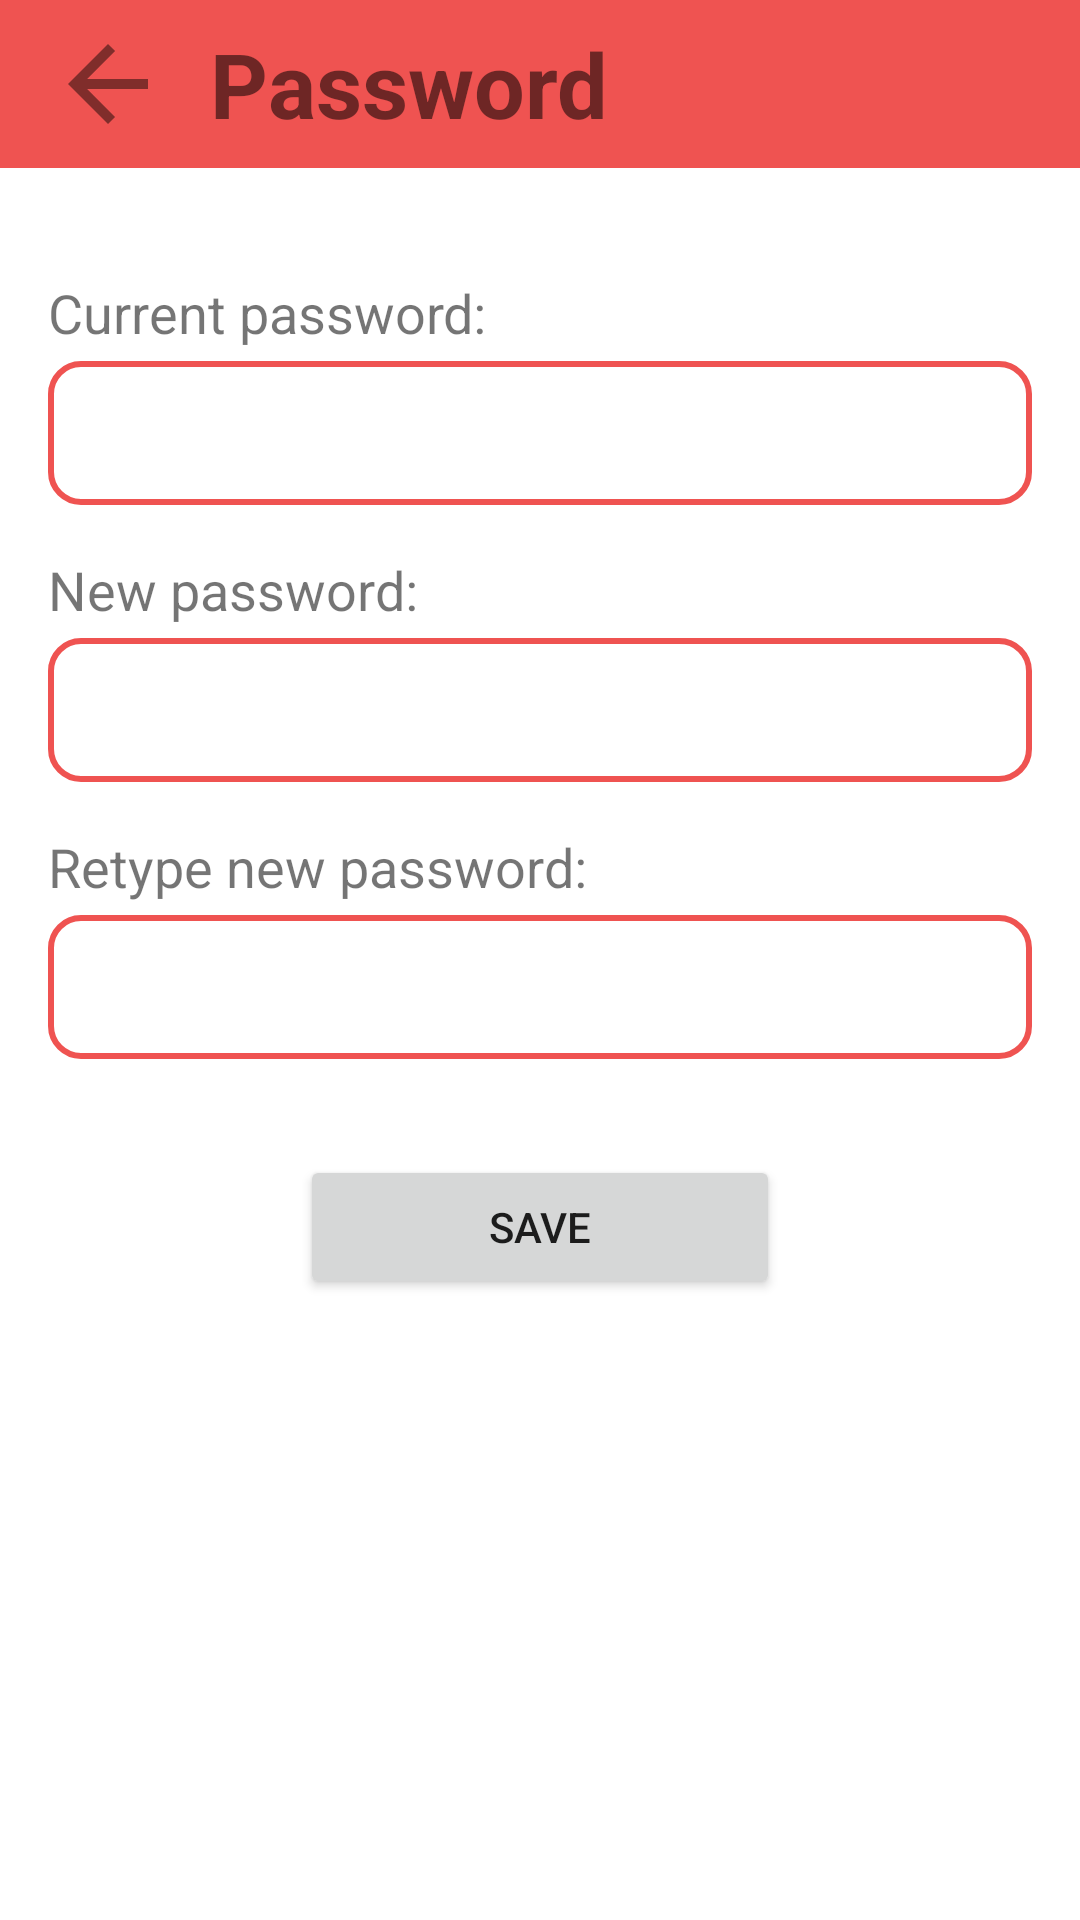

Screen size 1080w x 1920h. Icon name, then its box in pixels as (x1, y1, x2, y2):
back arrow: (68, 44, 148, 124)
